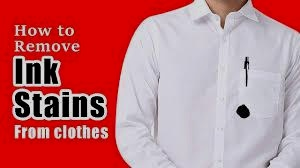ink: (236, 105, 250, 118)
